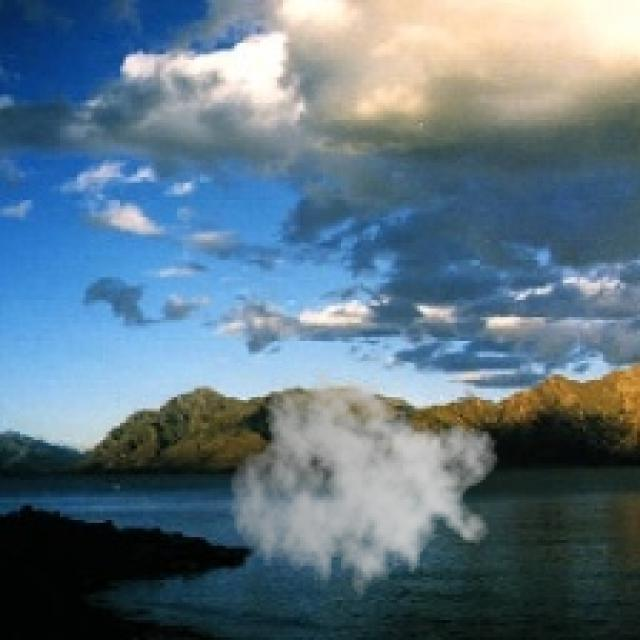smoke: (229, 363, 500, 608)
